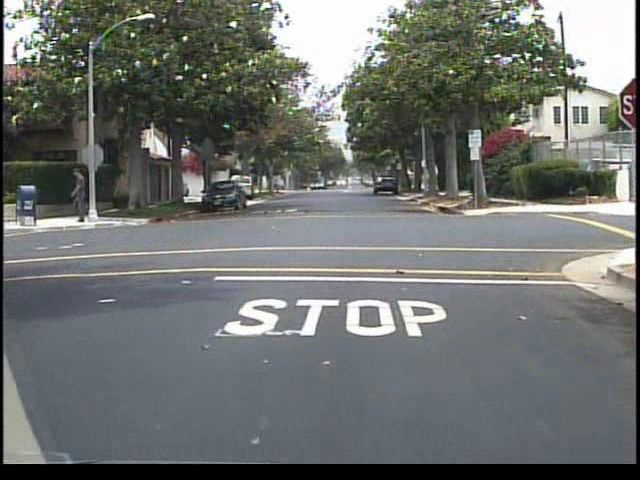person: (69, 161, 99, 226)
